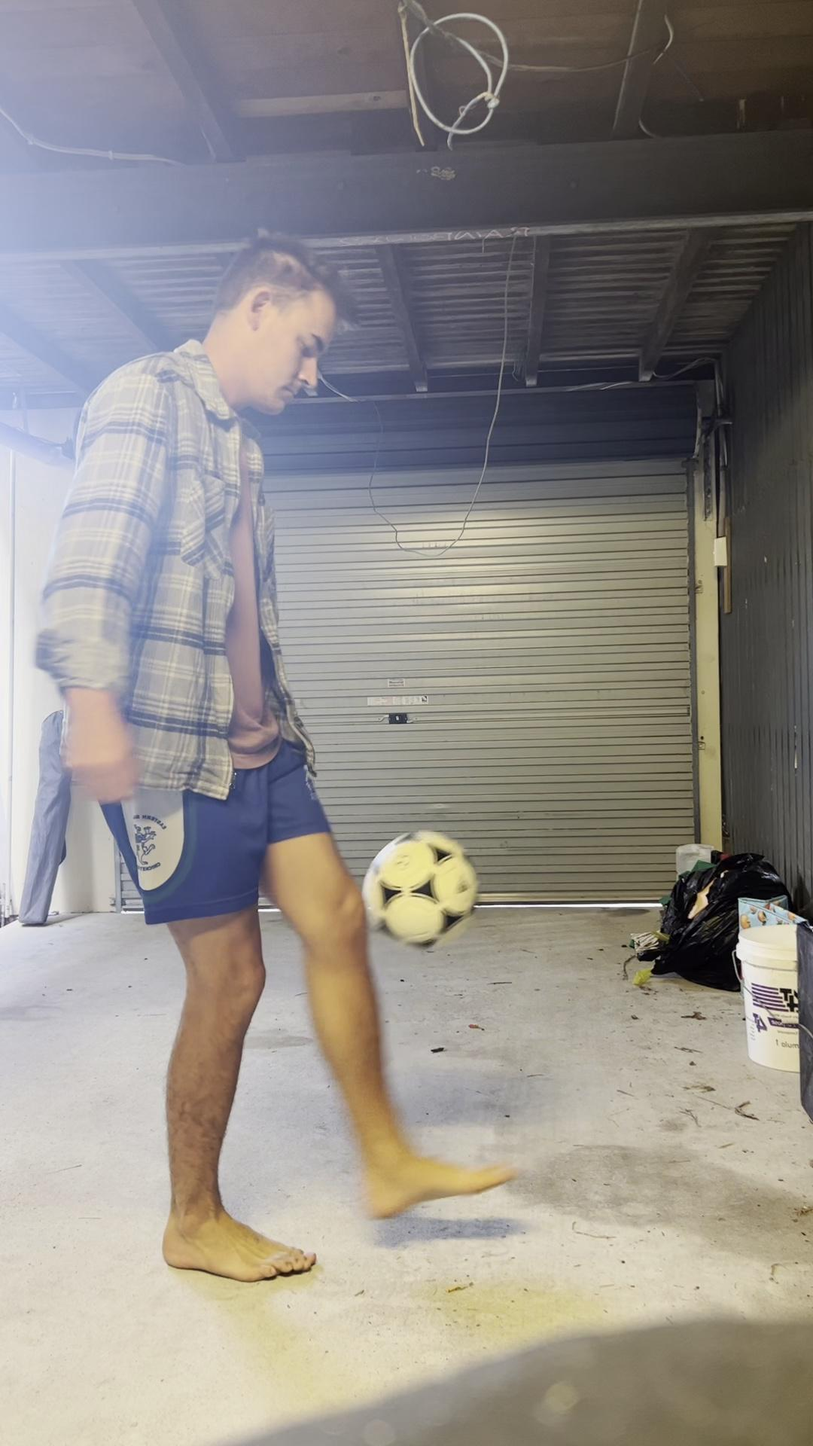ball: (366, 832, 478, 951)
foot: (160, 1183, 319, 1281), (356, 1141, 517, 1226)
person: (43, 236, 510, 1281)
